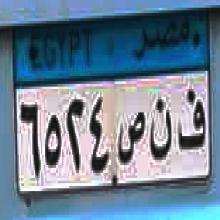2: (68, 96, 86, 170)
4: (88, 96, 109, 174)
5: (40, 112, 67, 172)
6: (20, 102, 40, 175)
faa: (176, 84, 207, 152)
noon: (149, 98, 172, 160)
saad: (115, 110, 147, 165)
